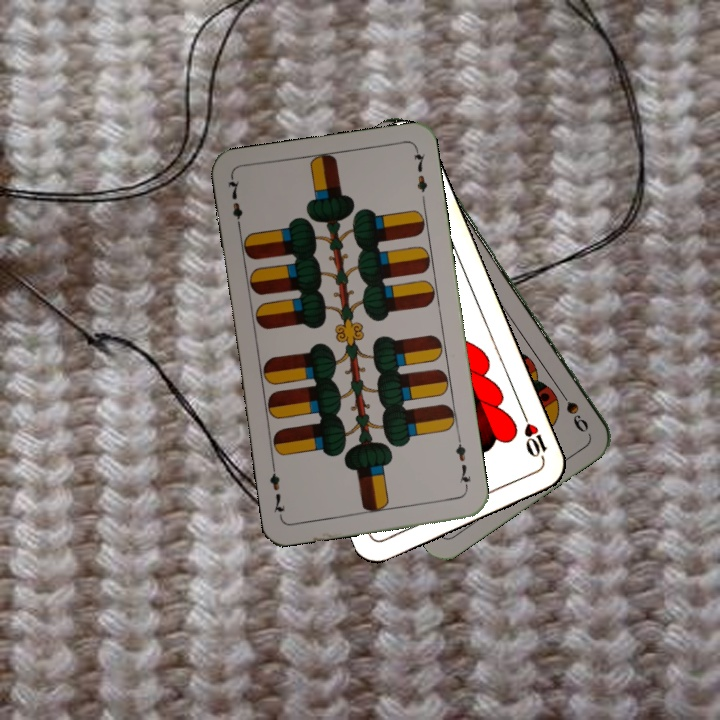E7: (451, 434, 474, 493), (223, 174, 246, 233)
H10: (518, 409, 549, 466)
S9: (553, 383, 592, 434)
